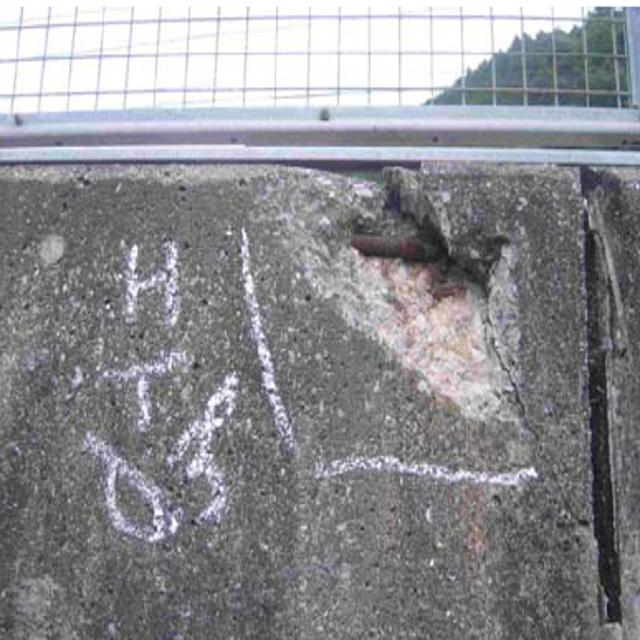spalling: (283, 159, 540, 444)
